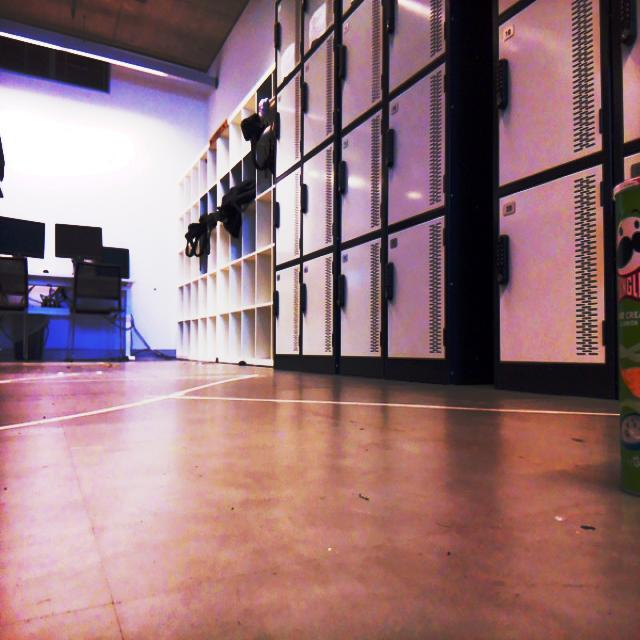greenpringles: (598, 155, 640, 520)
